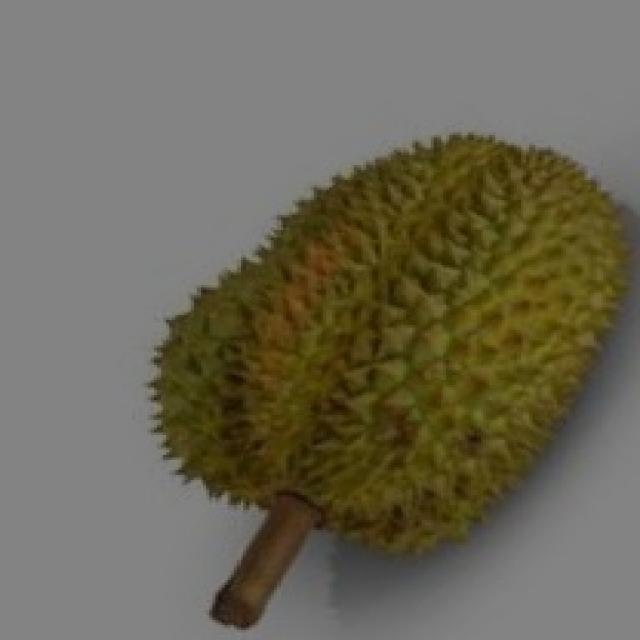fruit: (108, 222, 480, 622)
